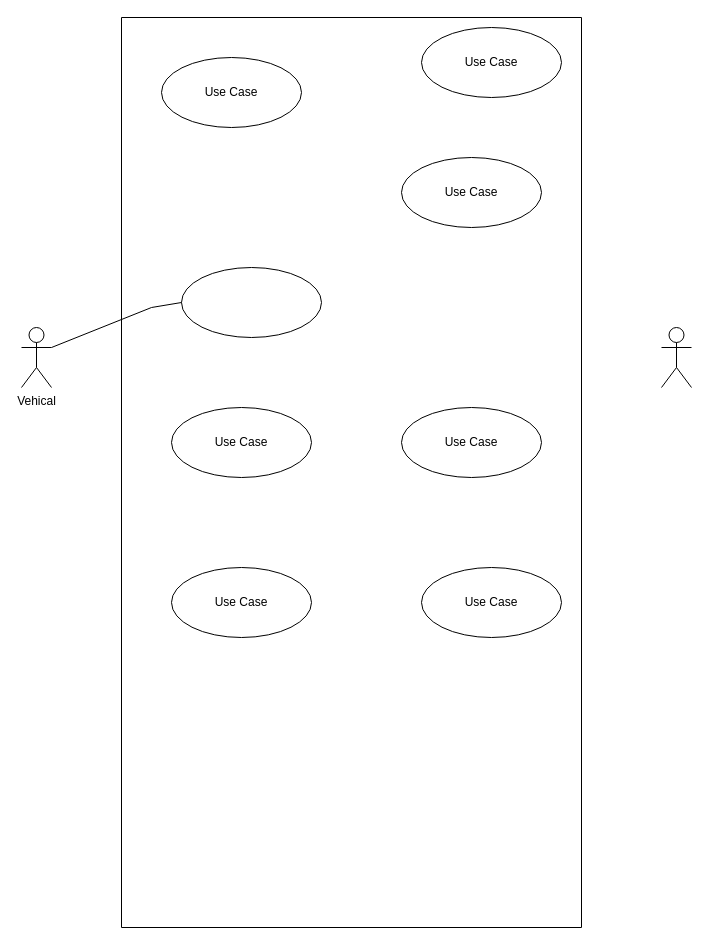
The diagram is 711 pixels wide and 945 high, and some of its shapes have lost their labels. Each missing label, with the centre of its shape:
"Reader" goes at pixel 251 302.
"Server" goes at pixel 676 357.
